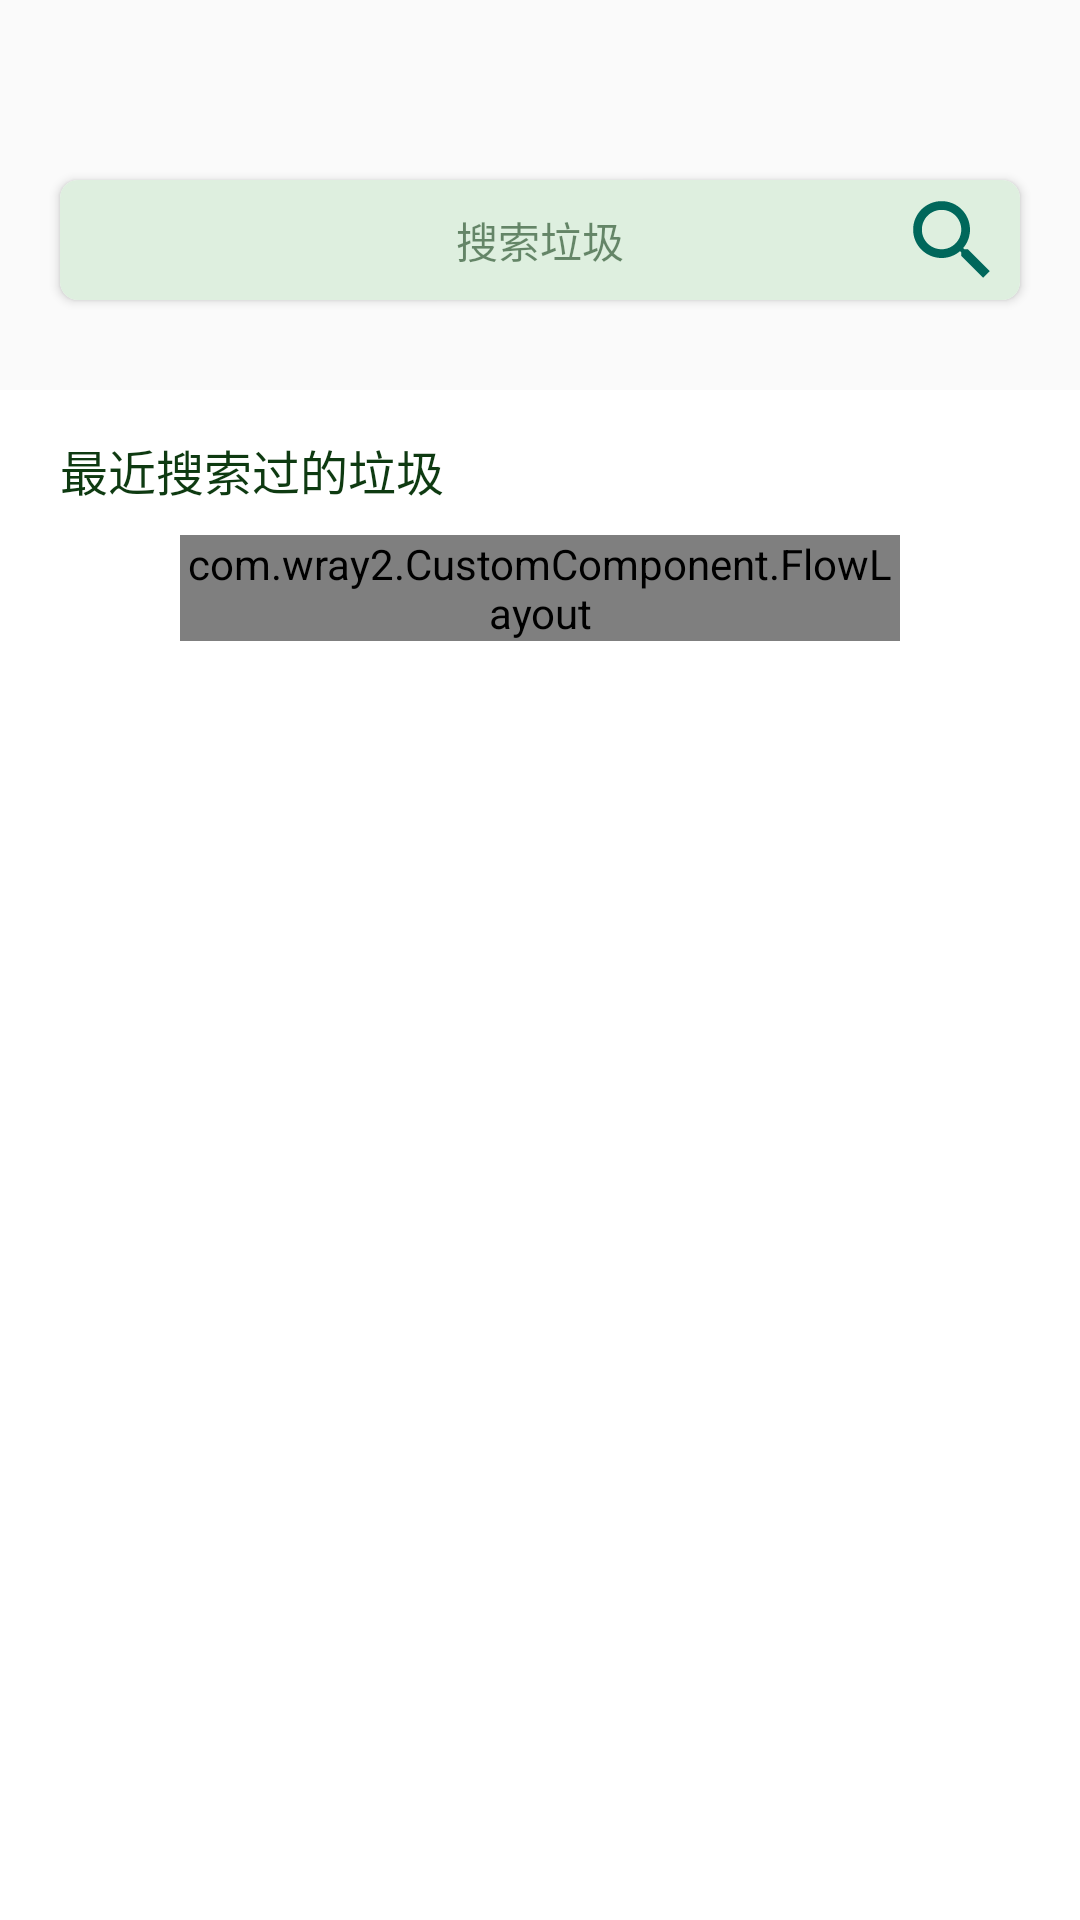

Screen size 1080 × 1920. Icon name, then its center in pixels as (x,y):
search: (951,239)
